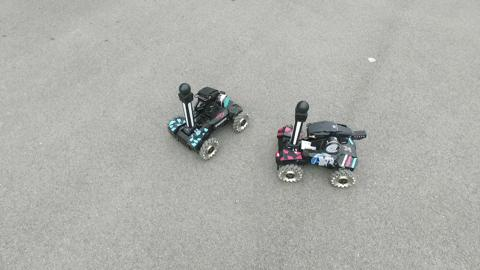chariot: (276, 97, 370, 195), (157, 79, 251, 166)
